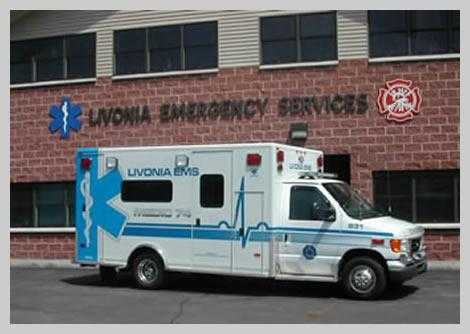Ambulance: (66, 130, 432, 303)
